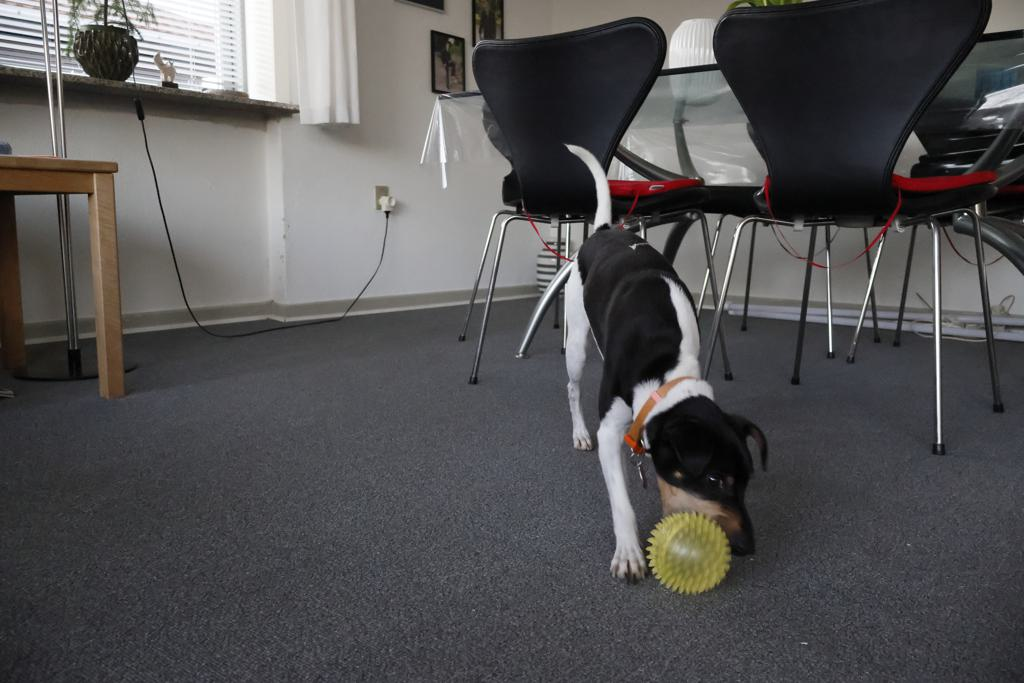Dog: (541, 134, 785, 593)
